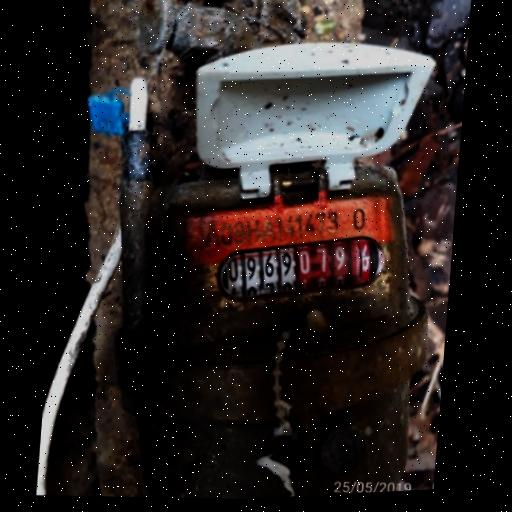0: (292, 243, 318, 292), (222, 255, 247, 299)
6: (345, 236, 374, 286), (258, 248, 284, 297)
7: (309, 240, 338, 292)
9: (327, 238, 356, 288), (275, 246, 301, 295), (240, 251, 266, 299)
border_water_meter_number: (211, 222, 391, 318)
